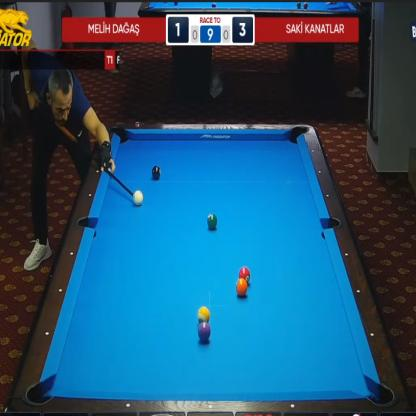Ball: (198, 322, 211, 342), (197, 306, 210, 322), (236, 278, 247, 296), (238, 267, 250, 283), (207, 213, 217, 230), (133, 190, 143, 206), (152, 166, 160, 180)
